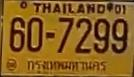0: (26, 16, 42, 51)
2: (75, 18, 91, 52)
6: (9, 16, 24, 51)
7: (57, 17, 73, 52)
9: (111, 18, 127, 53), (93, 18, 109, 53)
BKK: (24, 57, 109, 74)
